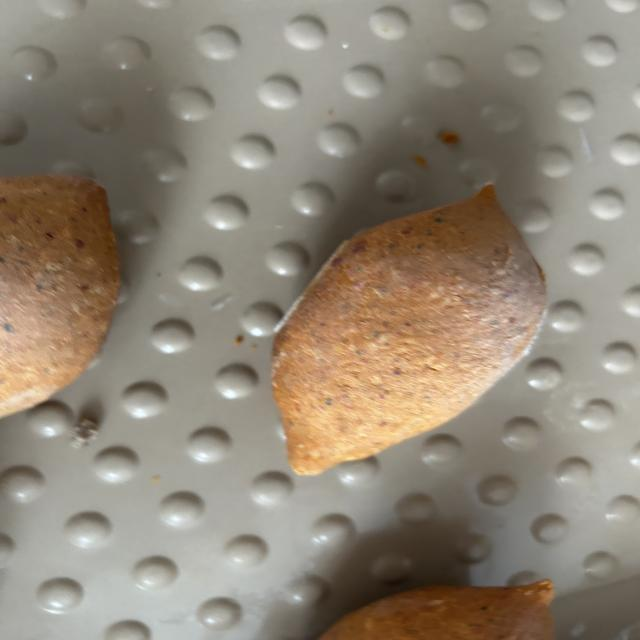kobi: (269, 183, 548, 476), (0, 172, 121, 418), (319, 578, 560, 640)
